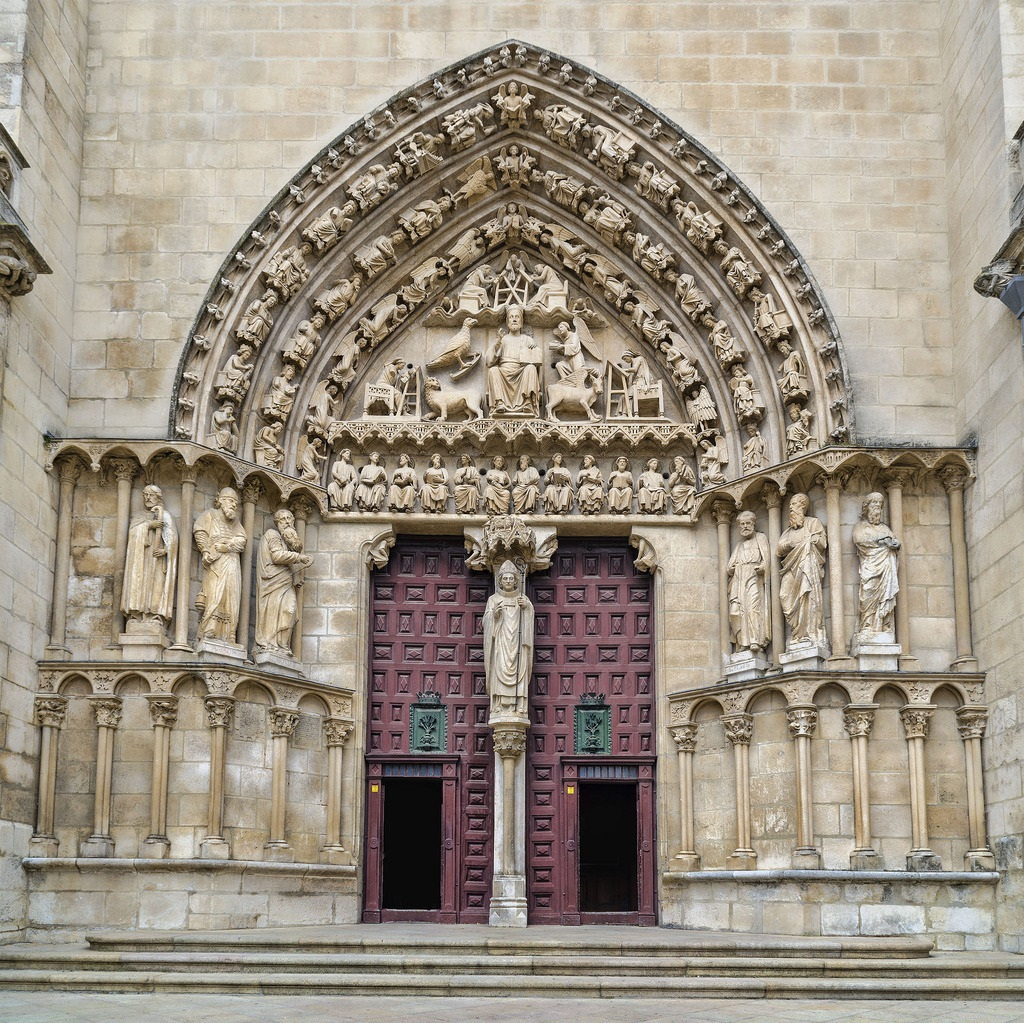arco-apuntado: (168, 30, 852, 446)
